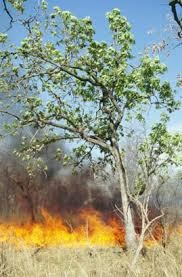fire: (5, 203, 124, 247)
